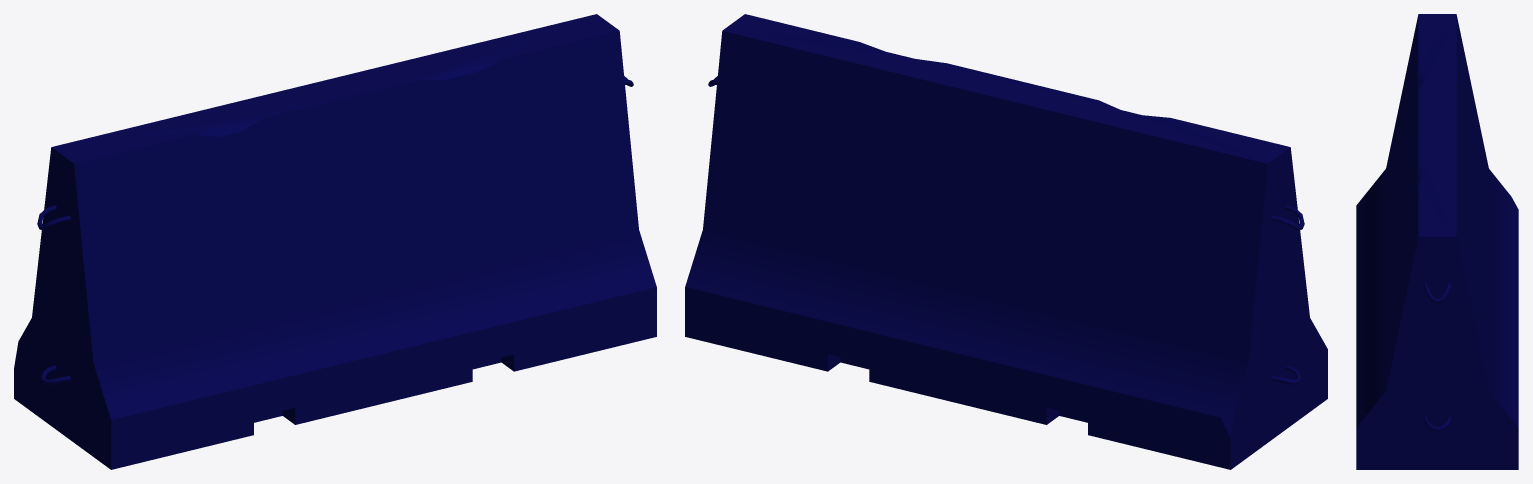
File: SM_RoadBlock02.fbx
3 renders of one model, left to right at view 1: azimuth 30°, elevation 25°; view 2: azimuth 150°, elevation 25°; view 3: azimuth 270°, elevation 25°, orthographic. The views are drawn at different scales.
Parts seen in each view (by area): view 1: RoadBlock02; view 2: RoadBlock02; view 3: RoadBlock02.
Part boxes in pixels (left/top/right/bottom): RoadBlock02: left=14, top=14, right=656, bottom=469; RoadBlock02: left=685, top=14, right=1327, bottom=469; RoadBlock02: left=1356, top=14, right=1518, bottom=469.
Size of the model in its own units: 189 by 85 by 53.6.
